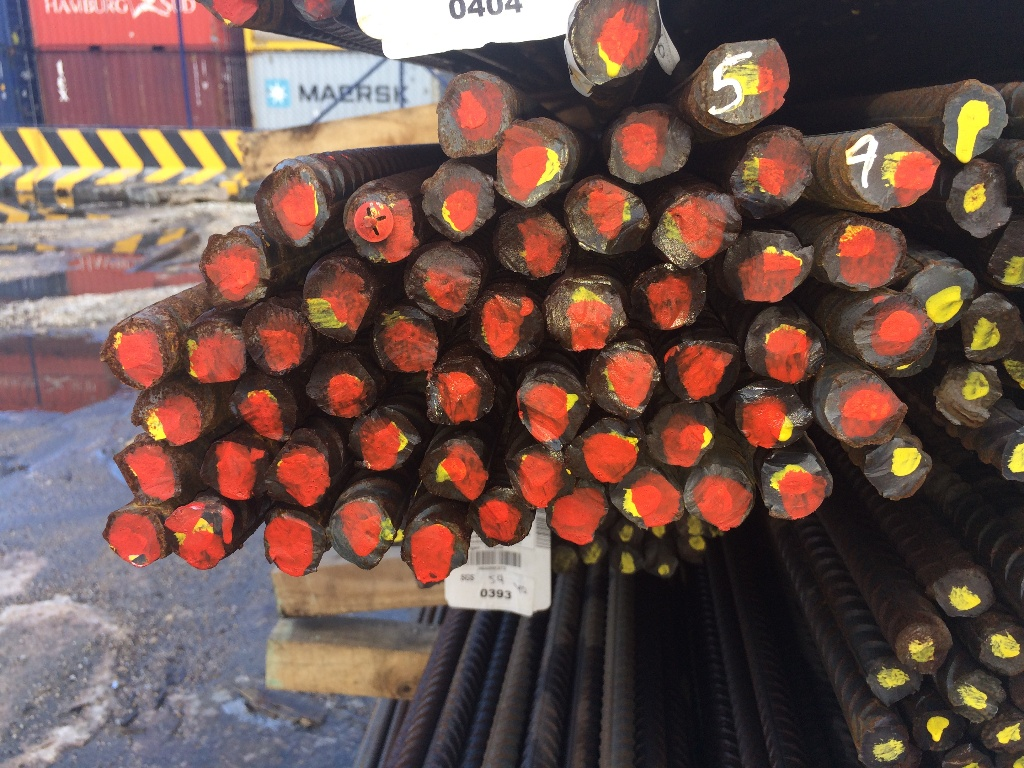dipstick: (687, 38, 792, 125), (843, 122, 941, 213), (725, 126, 816, 217), (568, 1, 660, 87), (494, 113, 572, 209), (853, 292, 936, 378), (542, 273, 631, 353), (567, 177, 651, 261), (743, 301, 825, 387), (652, 189, 738, 270), (434, 71, 510, 162), (604, 106, 690, 185), (730, 228, 816, 307), (820, 219, 907, 295), (511, 362, 587, 447), (584, 338, 660, 423), (256, 165, 331, 250), (405, 243, 483, 324), (825, 372, 908, 448), (628, 259, 713, 333), (420, 159, 496, 241), (340, 186, 418, 265), (487, 206, 570, 280), (131, 377, 217, 448), (301, 260, 372, 345), (103, 313, 180, 390), (663, 333, 742, 407), (469, 287, 545, 363), (904, 259, 980, 335), (943, 161, 1014, 240), (940, 77, 1007, 160), (200, 231, 272, 308), (367, 302, 442, 373), (226, 372, 299, 444), (737, 386, 814, 453), (330, 497, 397, 573), (608, 465, 685, 531), (418, 437, 490, 506), (244, 301, 313, 372), (425, 357, 496, 426), (760, 453, 828, 524), (197, 436, 270, 501), (166, 501, 235, 569), (307, 352, 377, 419), (861, 436, 933, 501), (401, 519, 467, 588), (685, 466, 755, 531), (114, 444, 186, 507), (572, 424, 641, 489), (935, 366, 1005, 430), (347, 411, 419, 472), (960, 293, 1021, 365), (504, 444, 570, 510), (184, 318, 248, 385), (647, 407, 716, 469), (261, 511, 326, 576), (272, 437, 331, 507), (547, 478, 606, 548), (102, 507, 168, 566), (472, 486, 532, 548), (933, 565, 994, 621), (895, 619, 951, 675), (949, 670, 1007, 724), (863, 656, 923, 706), (979, 624, 1024, 678), (857, 723, 908, 767), (911, 707, 961, 750), (982, 713, 1024, 755)
